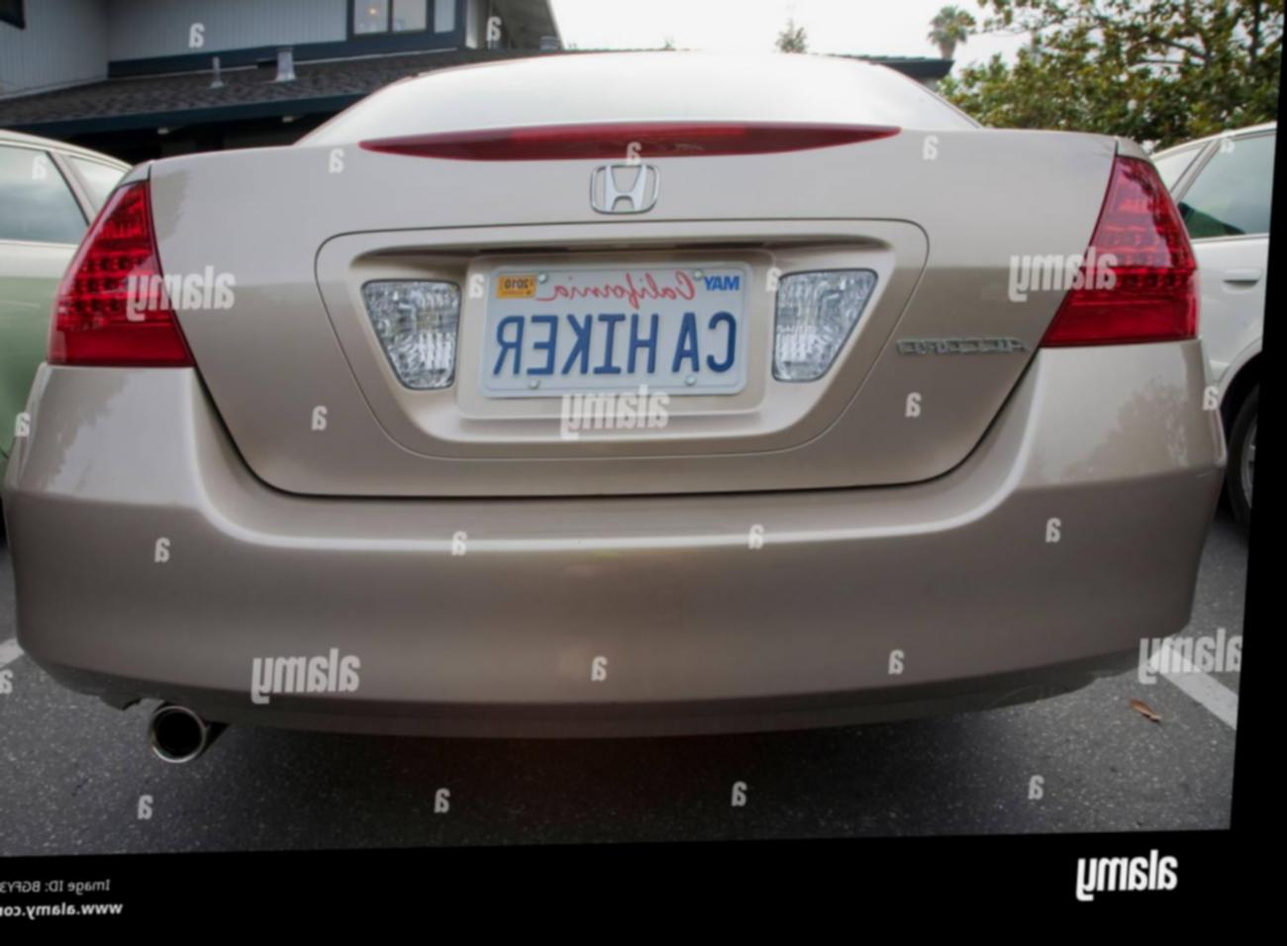License_Plate: (470, 253, 759, 405)
